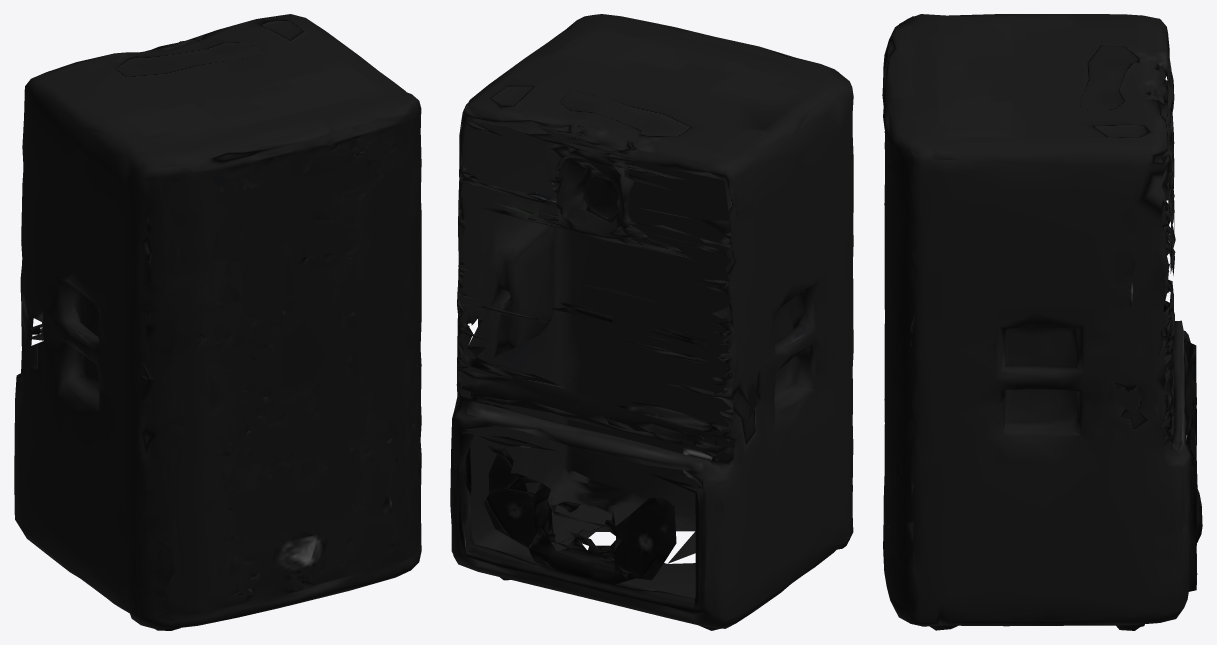
The model's file is stage-monitor-s1.lo.glb.
The picture shows the model from 3 angles, left to right: view 1: azimuth 30°, elevation 25°; view 2: azimuth 150°, elevation 25°; view 3: azimuth 270°, elevation 25°; orthographic projection. The views are drawn at different scales.
Parts seen in each view (by area): view 1: geometry_0; view 2: geometry_0; view 3: geometry_0.
Boxes of the visible parts, x1,y1,x2,y2 form: geometry_0: (14,14,421,630); geometry_0: (450,14,853,630); geometry_0: (882,14,1202,630).
Bounding box in the file's own units: 0.6208 × 1 × 0.5856.
1 material, 1 textured.
